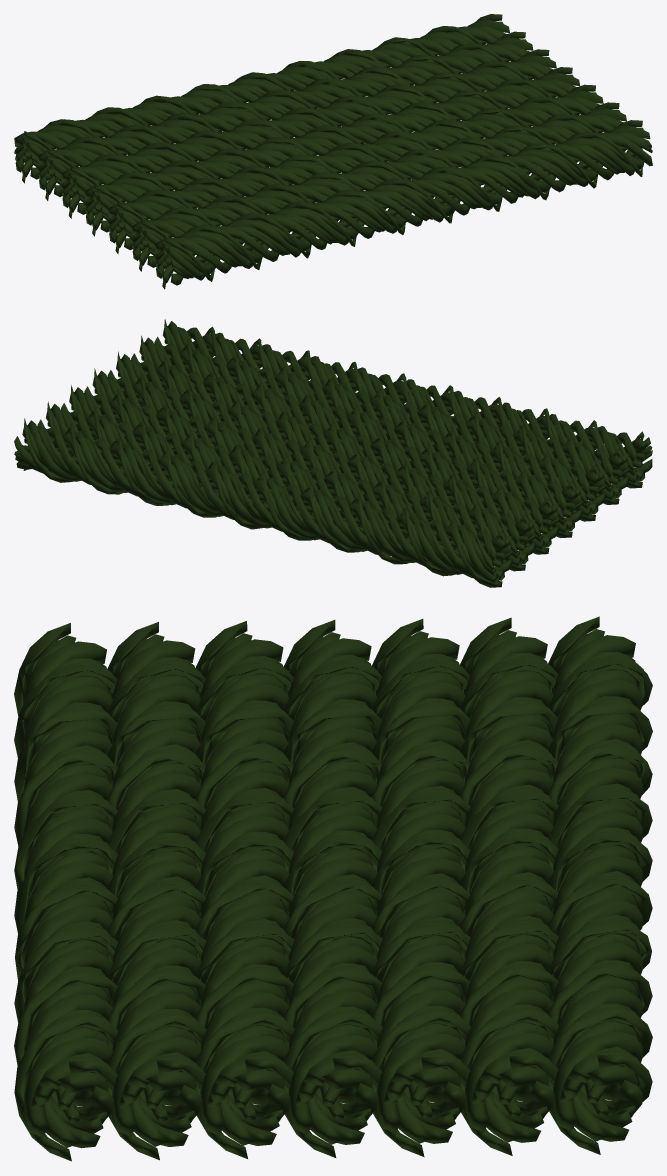
The model's file is ENV_Vine-floor_wide.fbx.
3 renders of one model, top to bottom at view 1: azimuth 30°, elevation 25°; view 2: azimuth 150°, elevation 25°; view 3: azimuth 270°, elevation 25°, orthographic. The views are drawn at different scales.
Visible parts, largest first — view 1: Cylinder.032; view 2: Cylinder.032; view 3: Cylinder.032.
Boxes of the visible parts, bbox=[...] form: Cylinder.032: bbox=[14, 14, 652, 289]; Cylinder.032: bbox=[14, 319, 652, 587]; Cylinder.032: bbox=[14, 616, 652, 1161].
Bounding box in the file's own units: 955 × 586 × 108.
